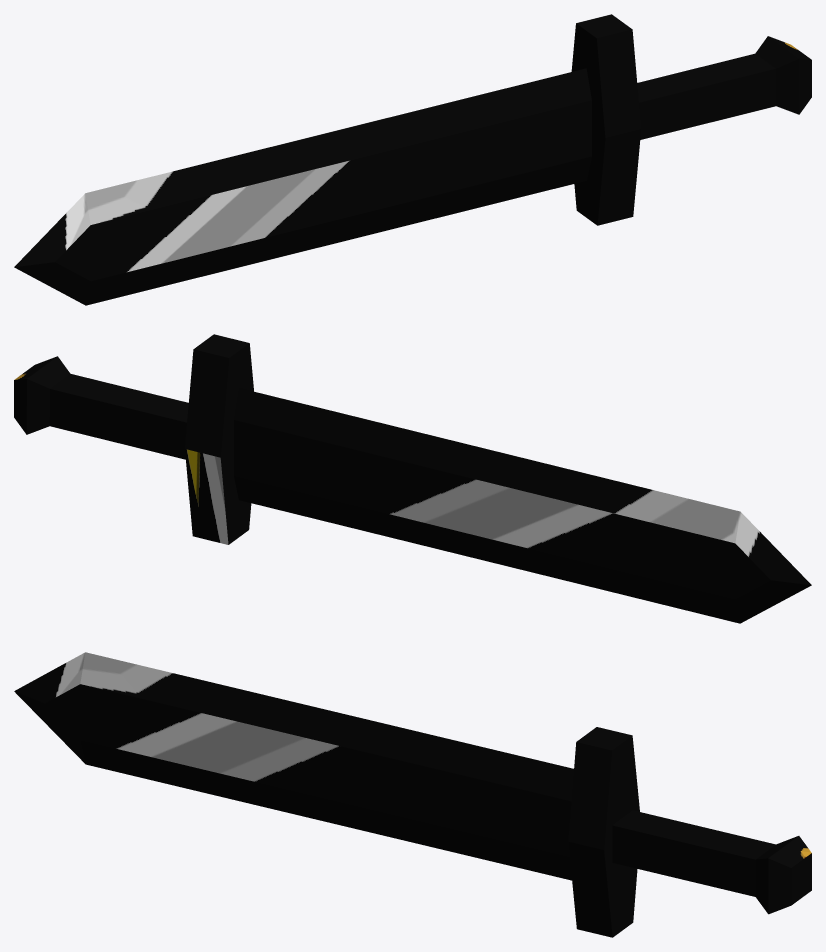
Rendered from Sword.FBX.
3 renders of one model, top to bottom at view 1: azimuth 30°, elevation 25°; view 2: azimuth 150°, elevation 25°; view 3: azimuth 330°, elevation 25°, orthographic.
Parts seen in each view (by area): view 1: Sword; view 2: Sword; view 3: Sword.
Part boxes in pixels (bbox=[...]): Sword: bbox=[14, 14, 811, 305]; Sword: bbox=[14, 334, 811, 623]; Sword: bbox=[14, 652, 811, 937].
Size of the model in its own units: 132 by 10.81 by 30.02.
